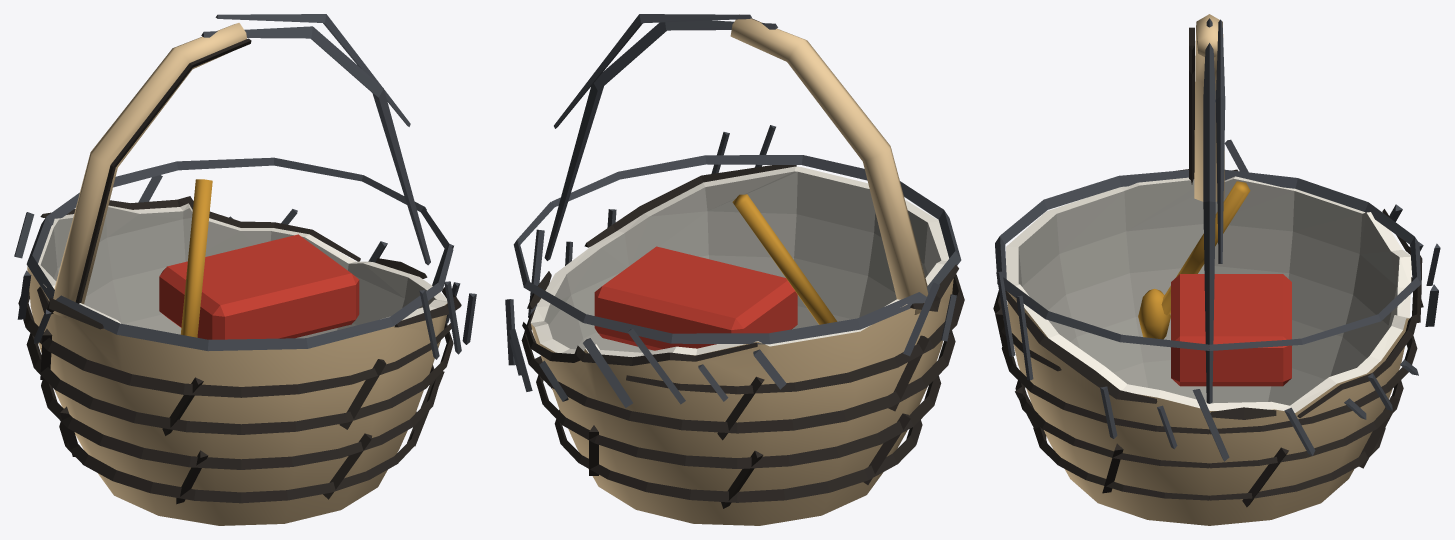
Rendered from Basket.fbx.
The picture shows the model from 3 angles, left to right: view 1: azimuth 30°, elevation 25°; view 2: azimuth 150°, elevation 25°; view 3: azimuth 270°, elevation 25°; orthographic projection. The views are drawn at different scales.
Parts seen in each view (by area): view 1: Main, Lines; view 2: Main, Lines; view 3: Main, Lines.
Boxes of the visible parts, box(x1,y1,x2,y2) form: Main: box(27, 23, 447, 525); Lines: box(14, 14, 476, 504); Main: box(530, 14, 953, 525); Lines: box(505, 14, 964, 508); Main: box(1006, 14, 1411, 525); Lines: box(993, 18, 1440, 507).
Bounding box in the file's own units: 0.4226 × 0.4394 × 0.4069.
